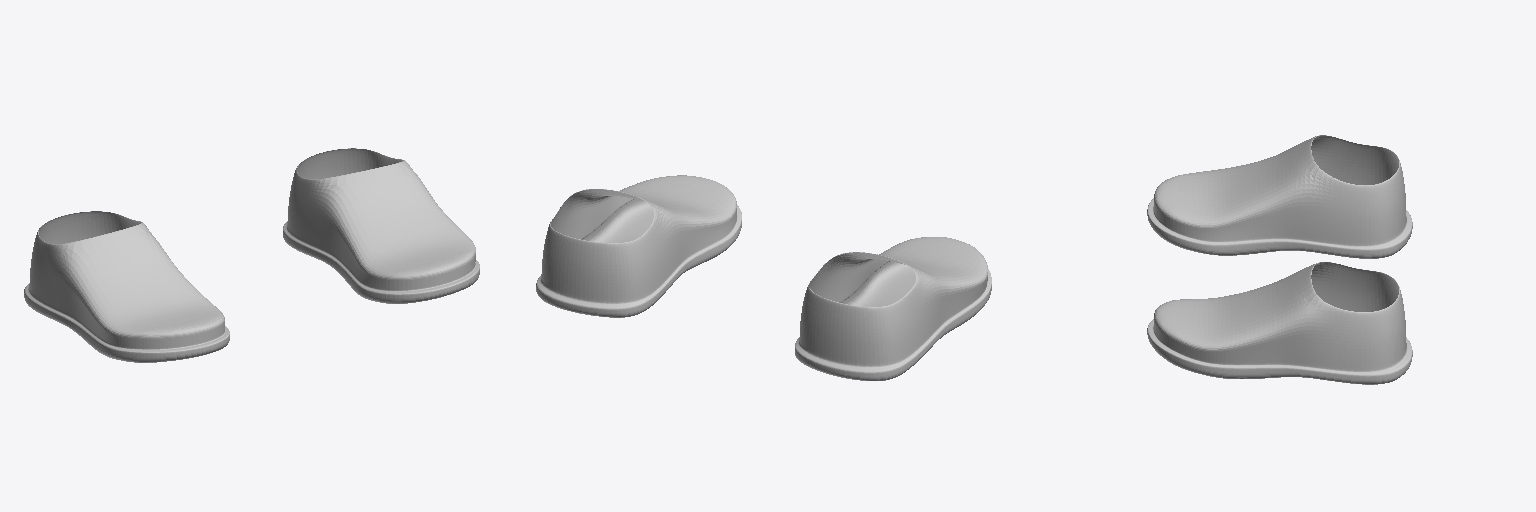
Rendered from ShoesToRemesh.obj.
3 renders of one model, left to right at view 1: azimuth 30°, elevation 25°; view 2: azimuth 150°, elevation 25°; view 3: azimuth 270°, elevation 25°, orthographic.
Visible parts, largest first — view 1: ShoesLP_Plane.010; view 2: ShoesLP_Plane.010; view 3: ShoesLP_Plane.010.
Boxes of the visible parts, <box> form: ShoesLP_Plane.010: <box>24,148,479,362</box>; ShoesLP_Plane.010: <box>536,175,991,380</box>; ShoesLP_Plane.010: <box>1147,135,1412,384</box>.
Bounding box in the file's own units: 0.1984 × 0.0448 × 0.1241.